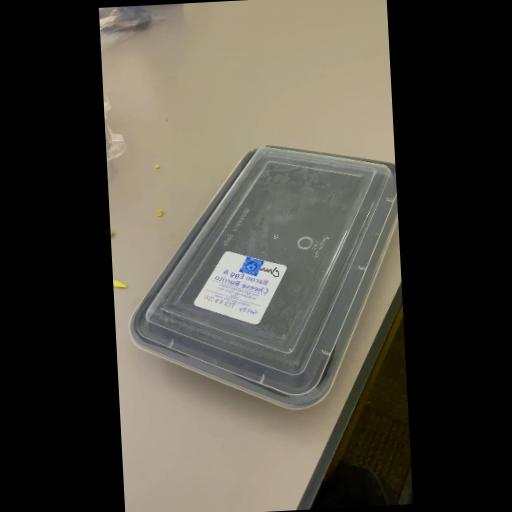rigid_plastic_container: (124, 142, 406, 410)
